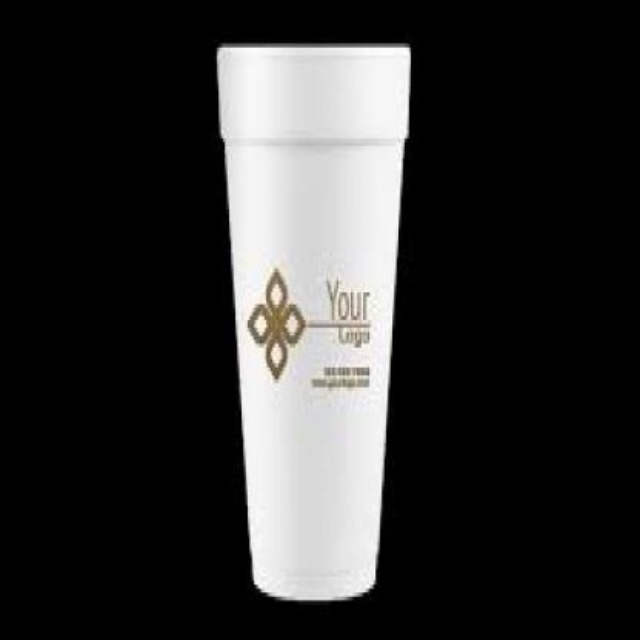trash: (217, 45, 409, 598)
